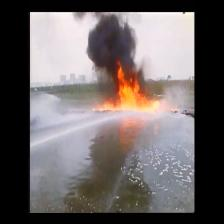fire: (95, 61, 159, 111)
